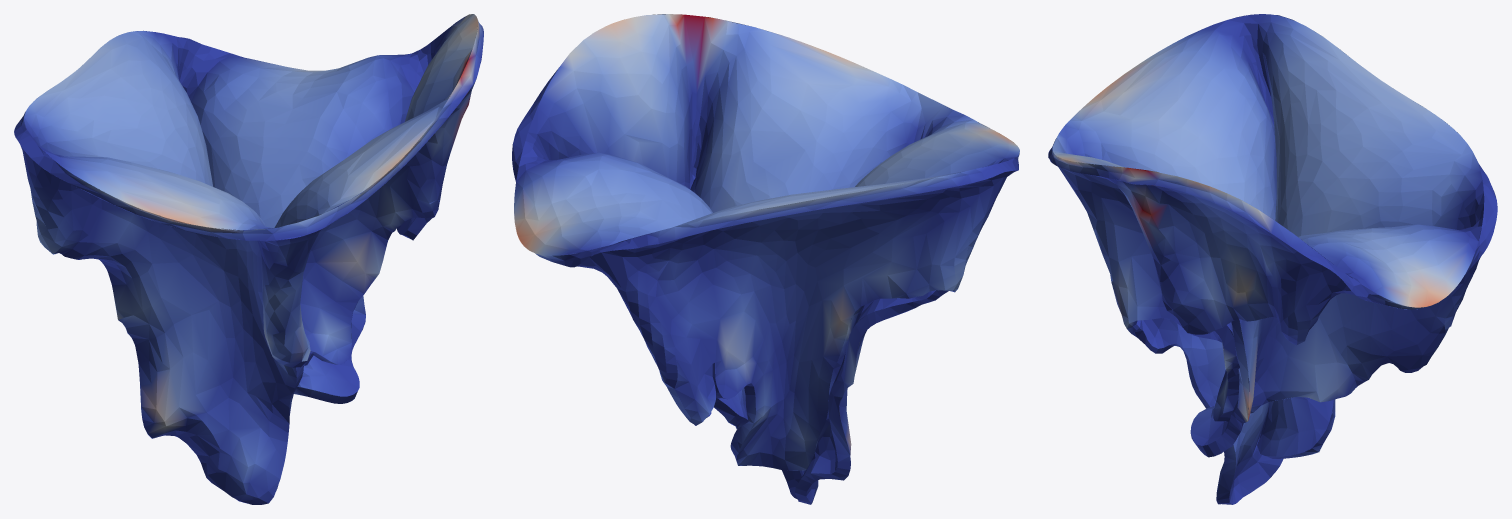
The picture shows the model from 3 angles, left to right: view 1: azimuth 30°, elevation 25°; view 2: azimuth 150°, elevation 25°; view 3: azimuth 270°, elevation 25°; orthographic projection. The views are drawn at different scales.
Visible parts, largest first — view 1: OCS14_maxS_17; view 2: OCS14_maxS_17; view 3: OCS14_maxS_17.
Boxes of the visible parts, <box> form: OCS14_maxS_17: <box>14,14,483,504</box>; OCS14_maxS_17: <box>512,14,1019,504</box>; OCS14_maxS_17: <box>1048,14,1497,504</box>.
Bounding box in the file's own units: 1.41 × 1.26 × 1.23.
